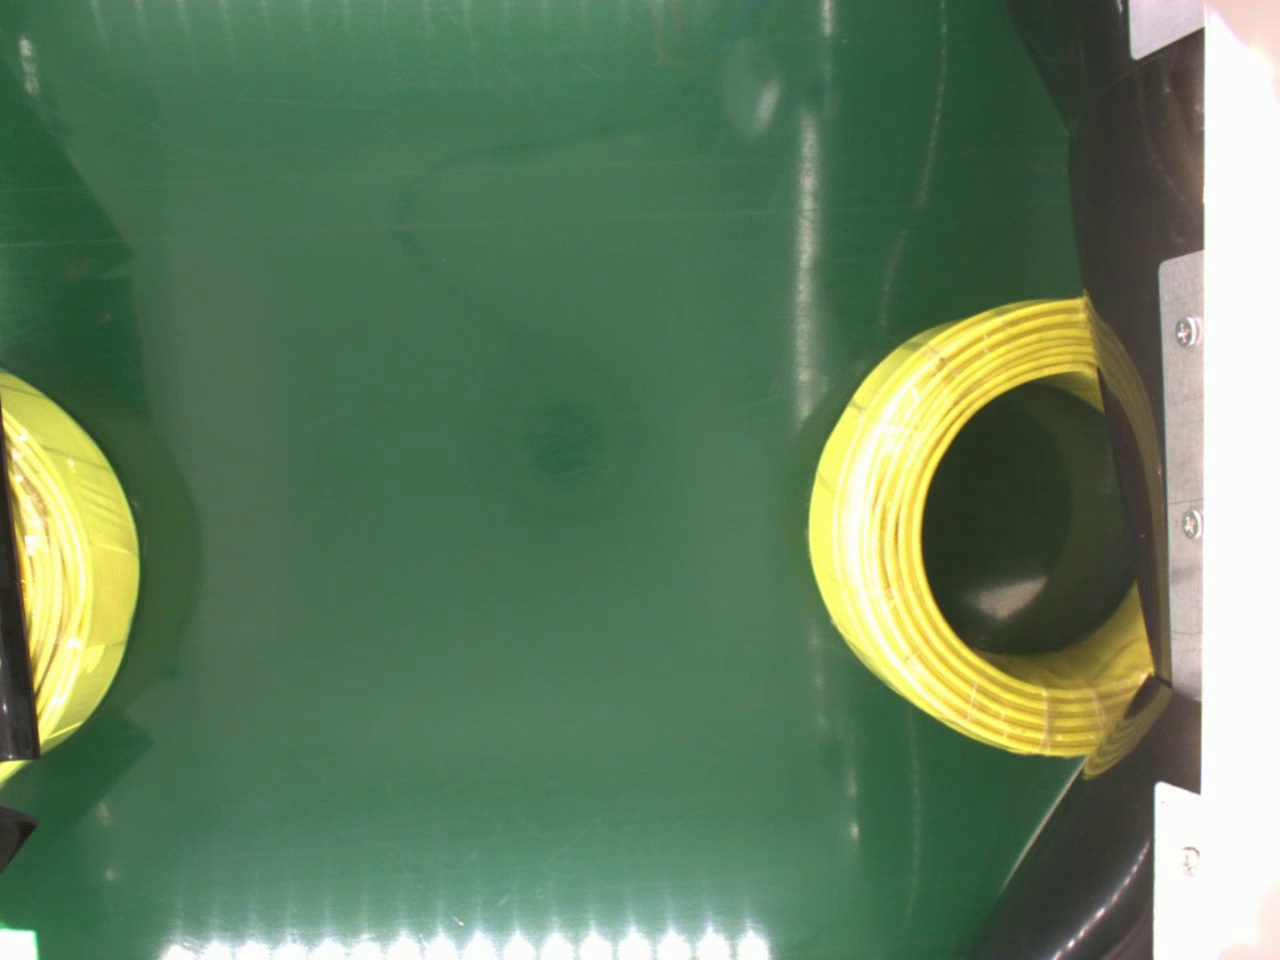yellow: (802, 293, 1158, 760), (0, 360, 146, 765)
